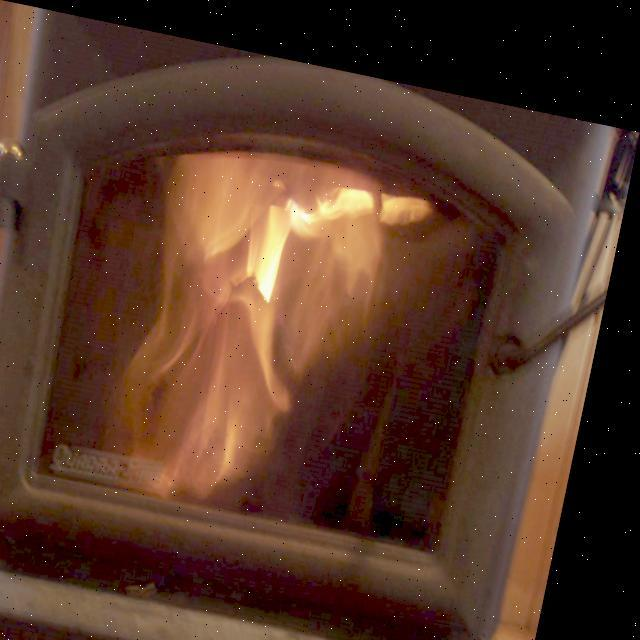Fire: (146, 132, 432, 504)
